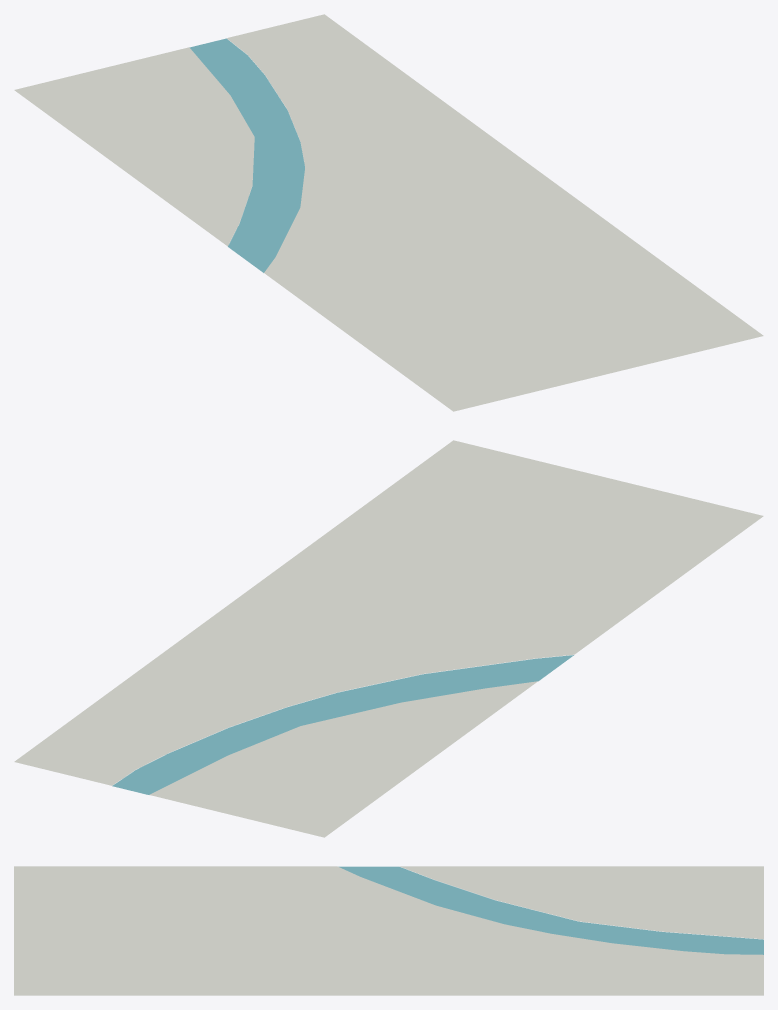
The picture shows the model from 3 angles, top to bottom: view 1: azimuth 30°, elevation 25°; view 2: azimuth 150°, elevation 25°; view 3: azimuth 270°, elevation 25°; orthographic projection. The views are drawn at different scales.
Visible parts, largest first — view 1: city; view 2: city; view 3: city.
Boxes of the visible parts, <box> form: city: <box>14,14,763,411</box>; city: <box>14,440,763,837</box>; city: <box>14,866,763,995</box>.
Size of the model in its own units: 204 by 0.18 by 500.
